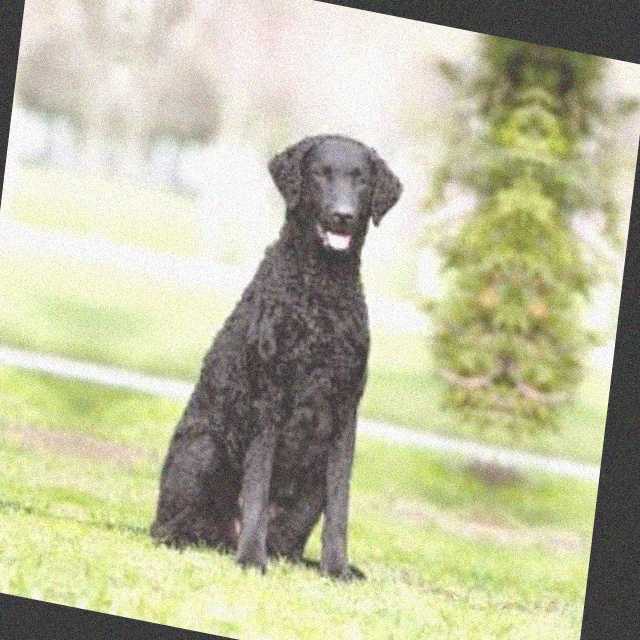dog: (89, 56, 449, 640), (0, 30, 95, 598), (555, 147, 638, 640)
